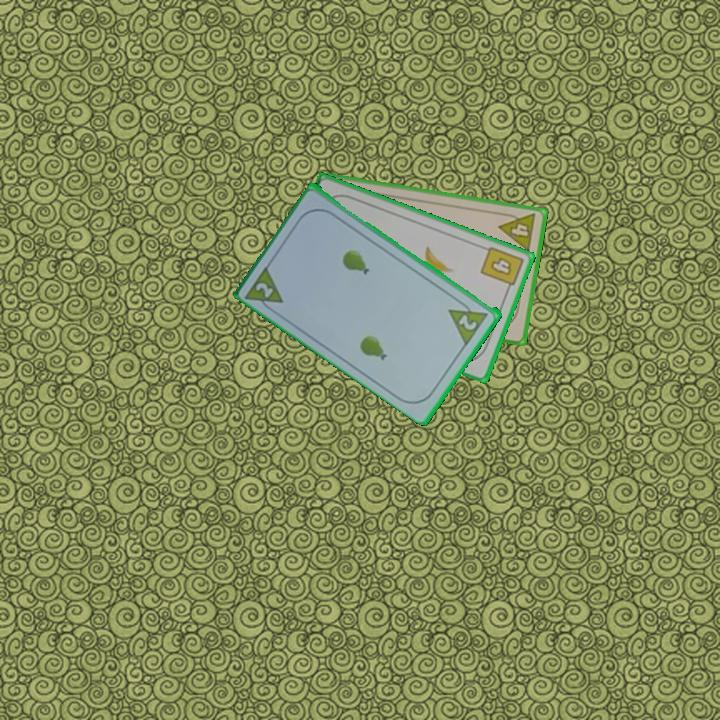2p: (455, 310, 480, 333), (252, 278, 277, 301)
4b: (477, 243, 526, 295)
4p: (495, 209, 539, 255)
